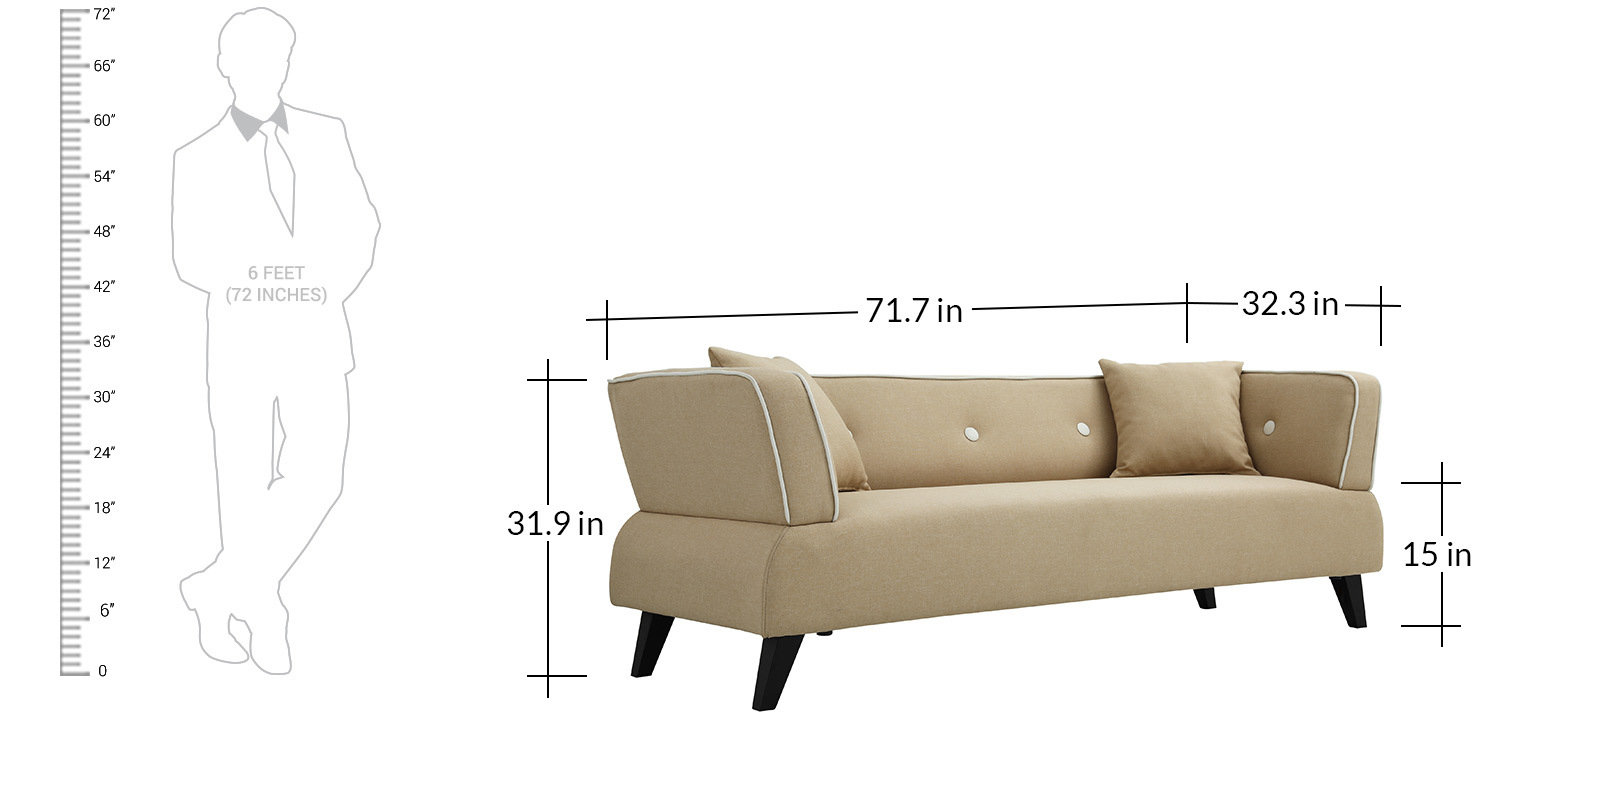Dime Three Seater Sofa in Beige Colour by Zofa: (600, 343, 1410, 718)
